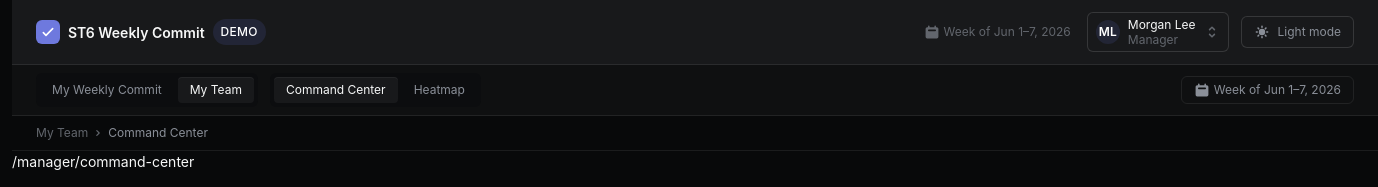
Test: ST.8a standalone app-shell — deterministic seams › nav_tab_navigates_to_route: manager nav tabs drive navigate() to the existing routes (no new routes)
Click the button "Heatmap": (439, 90) x1=402 y1=77 x2=477 y2=103
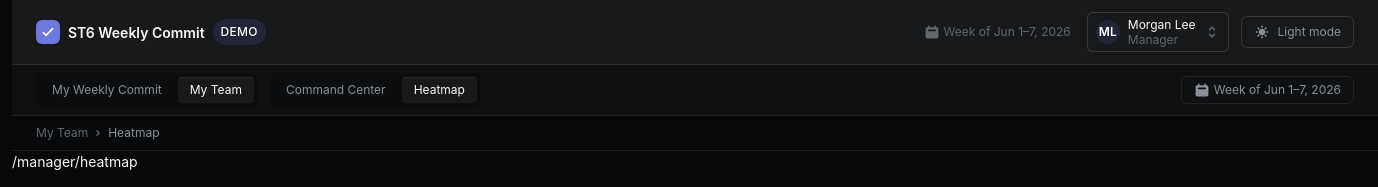
expect the text with test id "loc" reads "/manager/heatmap": met, box x1=12 y1=153 x2=138 y2=170
Click the button "My Weekly Commit": (107, 90) x1=40 y1=77 x2=174 y2=103
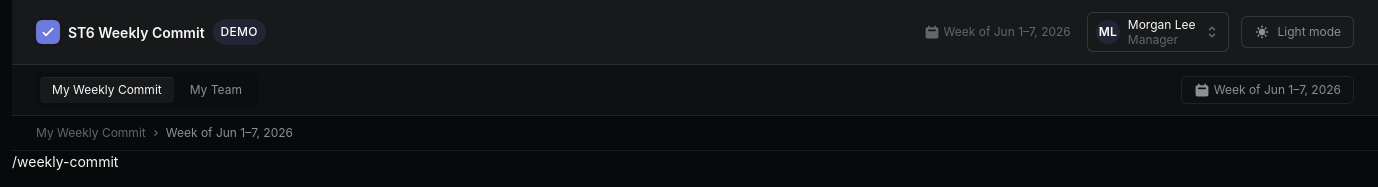
expect the text with test id "loc" reads "/weekly-commit": met, box x1=12 y1=153 x2=118 y2=170
Click the button "My Team": (216, 90) x1=178 y1=77 x2=254 y2=103
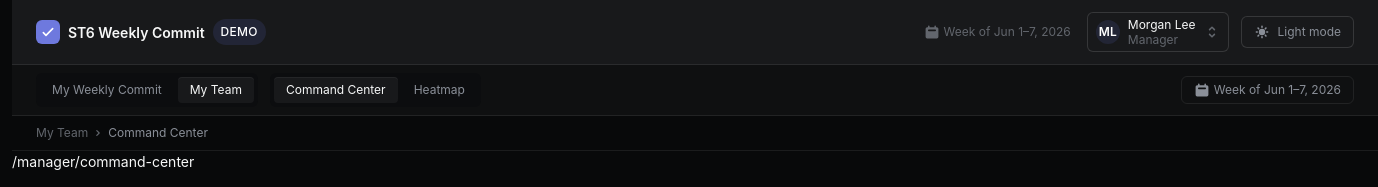
expect the text with test id "loc" reads "/manager/command-center": met, box x1=12 y1=153 x2=194 y2=170
